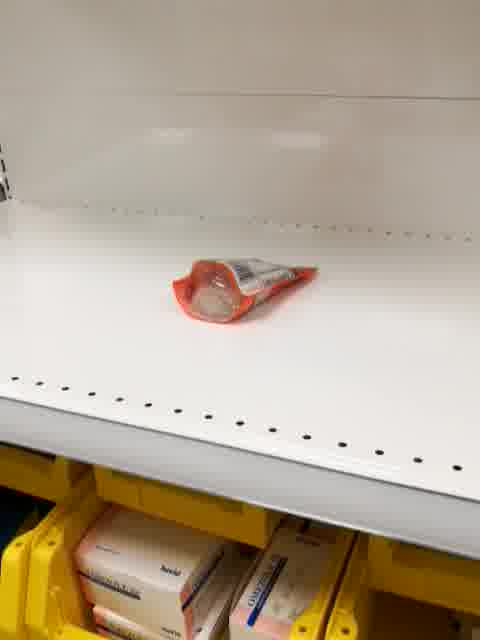whitechia: (170, 255, 320, 327)
